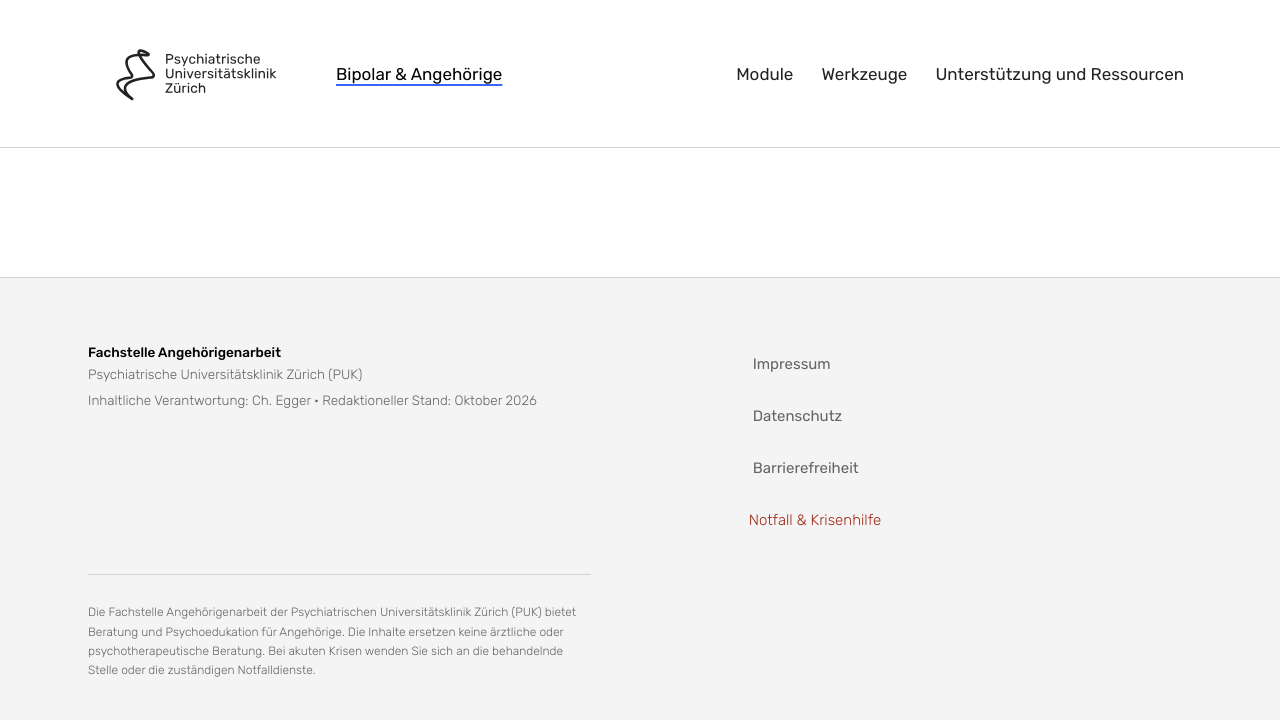
Test case: App navigation › keeps numbered crisis guidance on the dedicated crisis page across navigation
(page scrolled)
Check: the link "SOS Krise" is not shown
Click the link "Notfall & Krisenhilfe" at (815, 520), box [749,511,881,529]
(page scrolled)
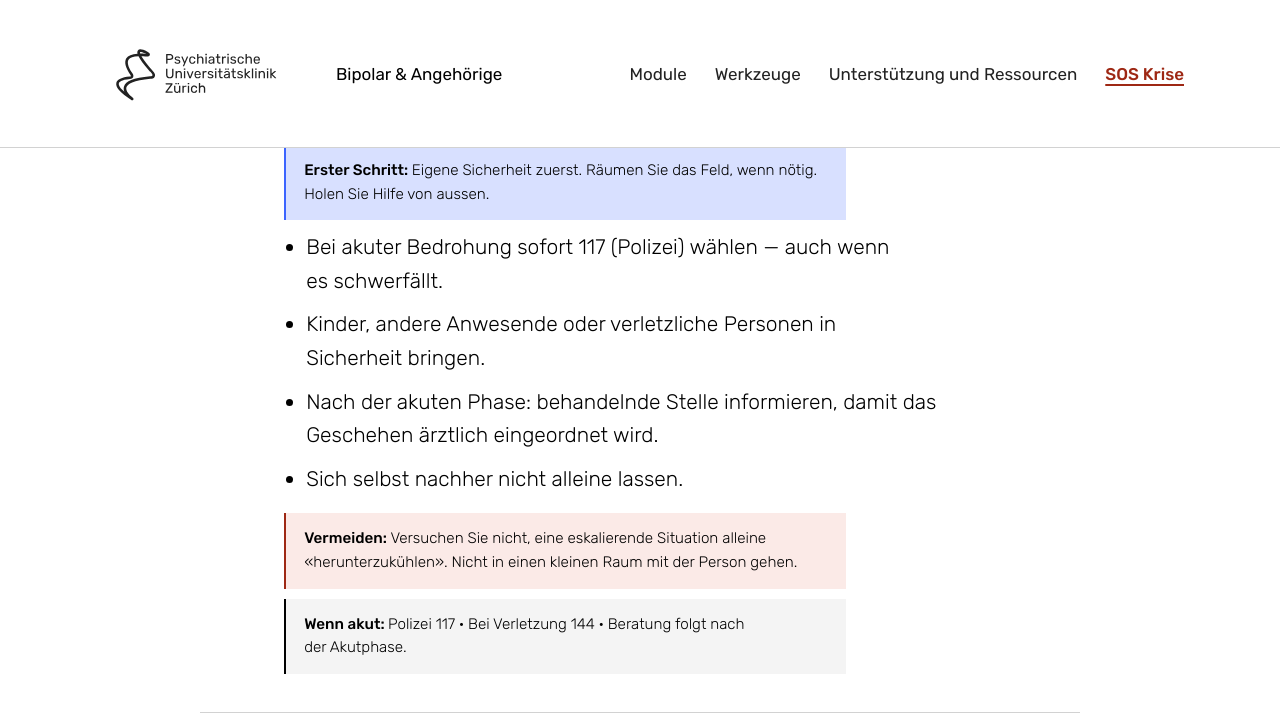
Click the link "Module" at (658, 74), box [629,64,687,84]
(page scrolled)
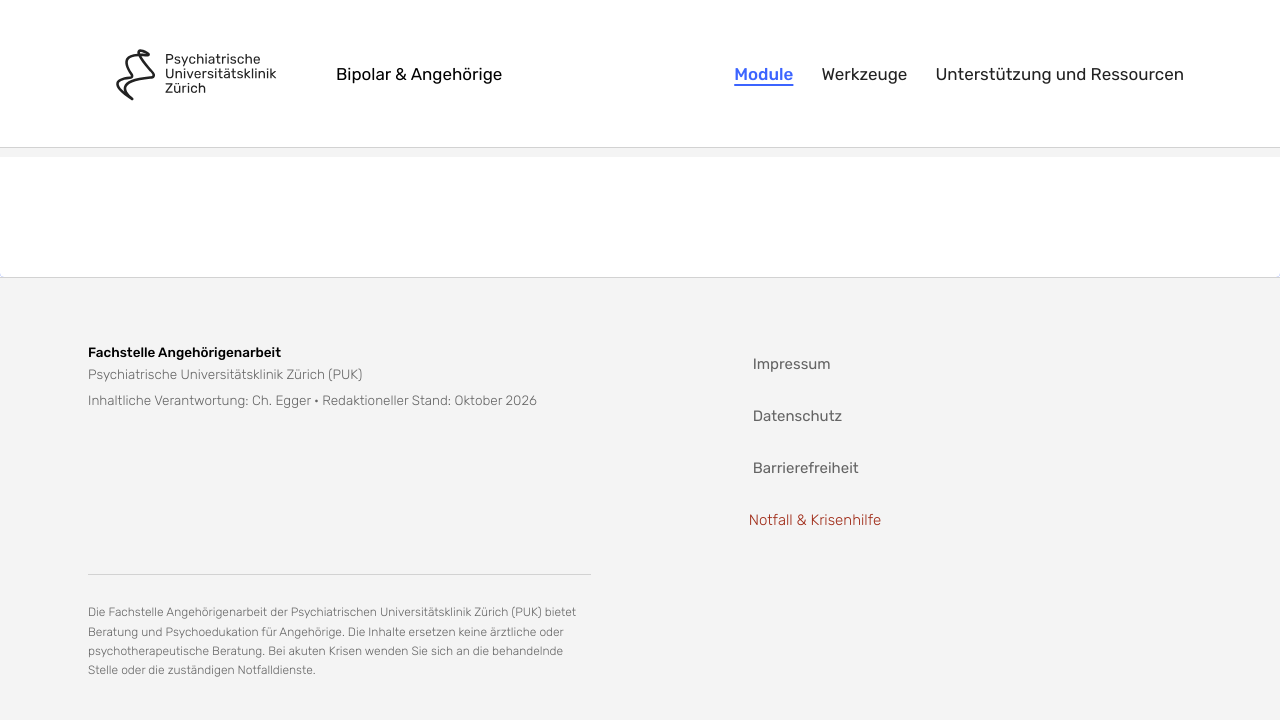
Check: the link "SOS Krise" is gone
